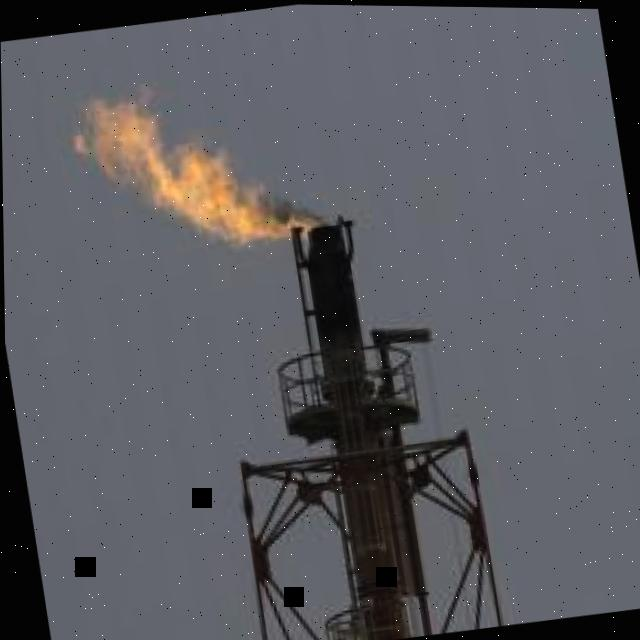fire: (75, 81, 322, 251)
smoke: (266, 197, 331, 225)
